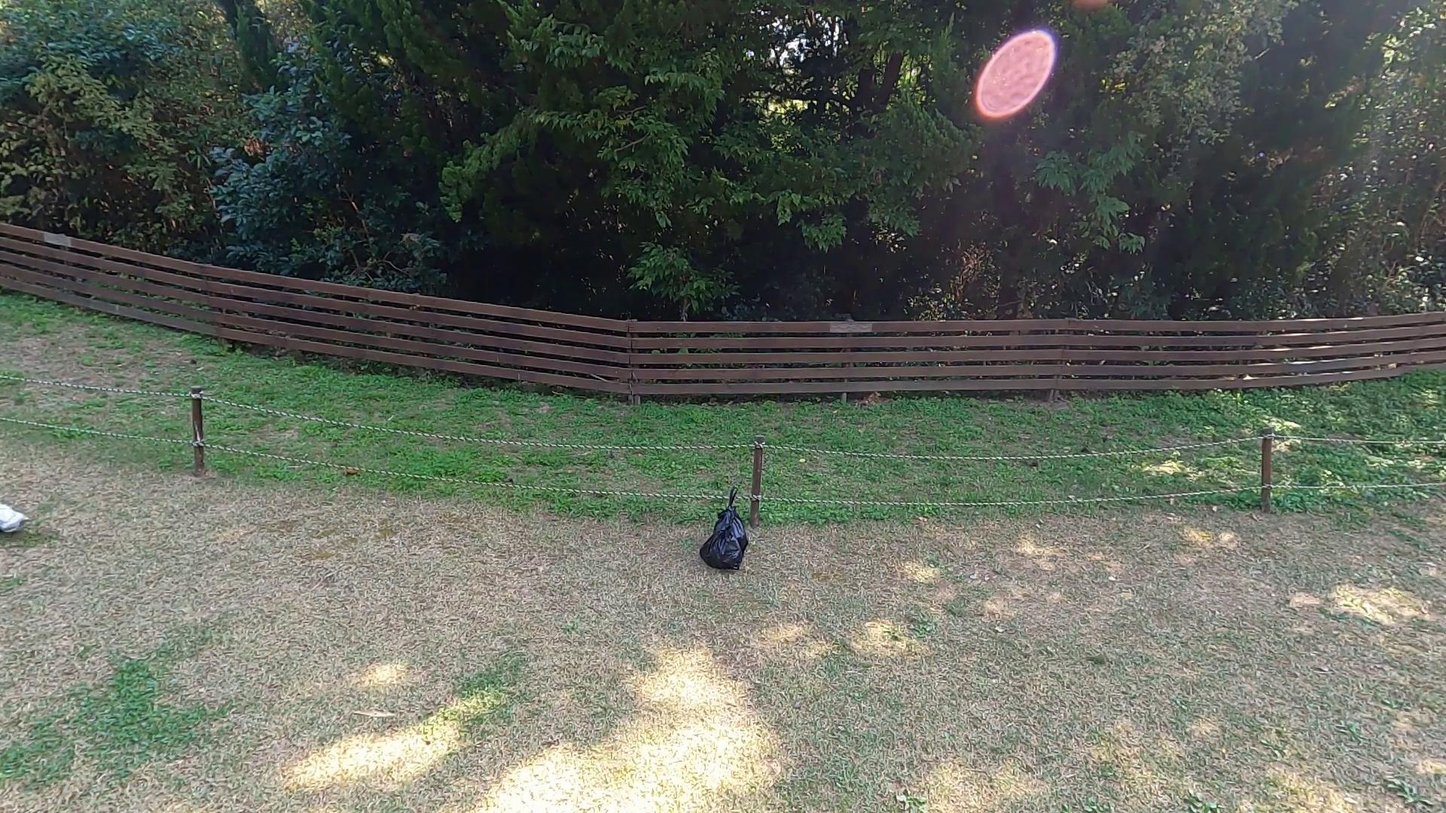trash: (704, 488, 751, 558), (700, 507, 744, 574)
